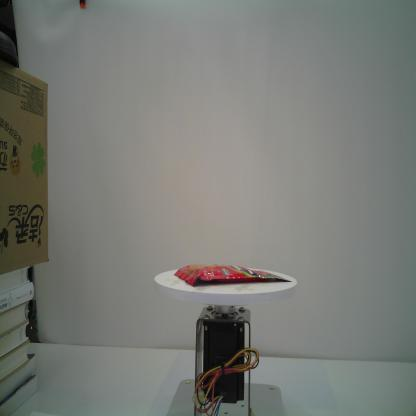Candy: (174, 263, 293, 287)
